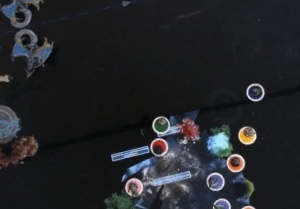blue: (242, 78, 268, 103)
green: (151, 113, 172, 136)
orange: (224, 149, 246, 173)
pink: (120, 174, 146, 199)
red: (146, 133, 170, 157)
violet: (203, 168, 228, 191)
yellow: (235, 121, 262, 147)
